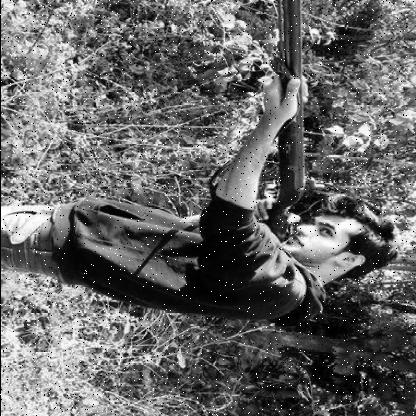rifle: (256, 0, 307, 245)
